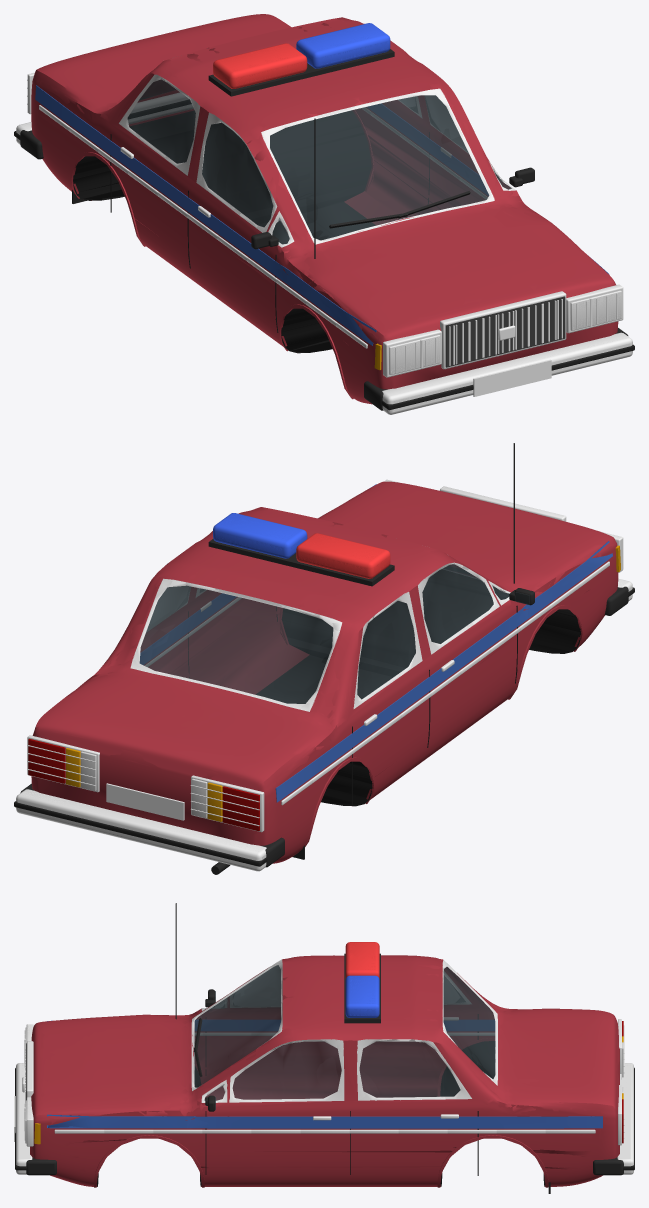
The model's file is police.glb.
3 views of the same model, one above another, from view 1: azimuth 30°, elevation 25°; view 2: azimuth 150°, elevation 25°; view 3: azimuth 270°, elevation 25° (orthographic). The views are drawn at different scales.
Parts seen in each view (by area): view 1: LOD_hi, LOD0; view 2: LOD_hi, LOD0; view 3: LOD_hi, LOD0.
Part boxes in pixels (x1,y1,x2,y2): LOD_hi: (14, 14, 634, 414); LOD0: (16, 15, 633, 411); LOD_hi: (14, 443, 634, 874); LOD0: (21, 444, 634, 873); LOD_hi: (14, 903, 634, 1193); LOD0: (14, 903, 630, 1185).
Size of what is drawn, in the model's own units: 1.89 by 1.6 by 4.38.
